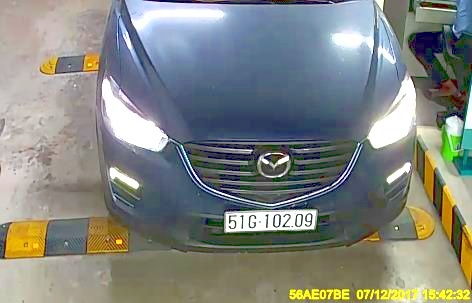plate: (222, 203, 317, 239)
